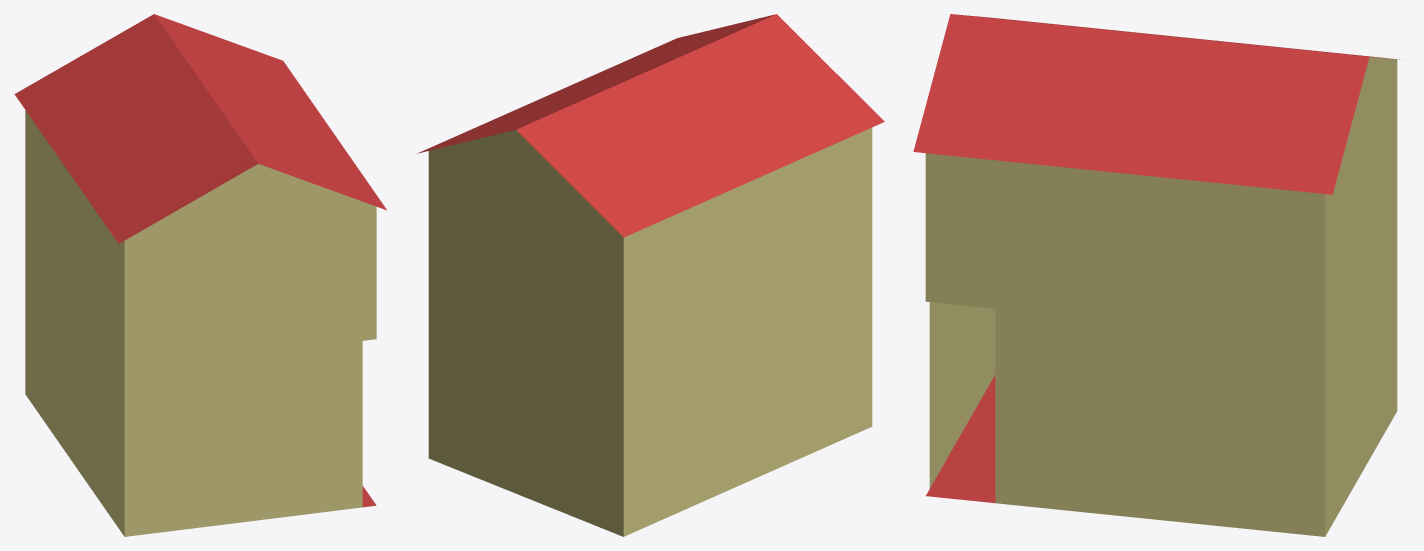
3 renders of one model, left to right at view 1: azimuth 30°, elevation 25°; view 2: azimuth 150°, elevation 25°; view 3: azimuth 270°, elevation 25°, orthographic. The views are drawn at different scales.
Bounding box in the file's own units: 10.31 × 12.2 × 11.41.
